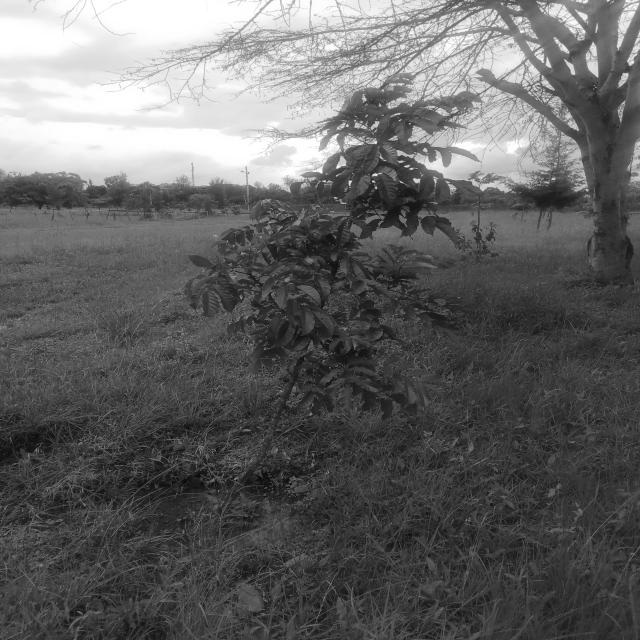Polyscias Kikuyensis: (182, 66, 494, 493)
